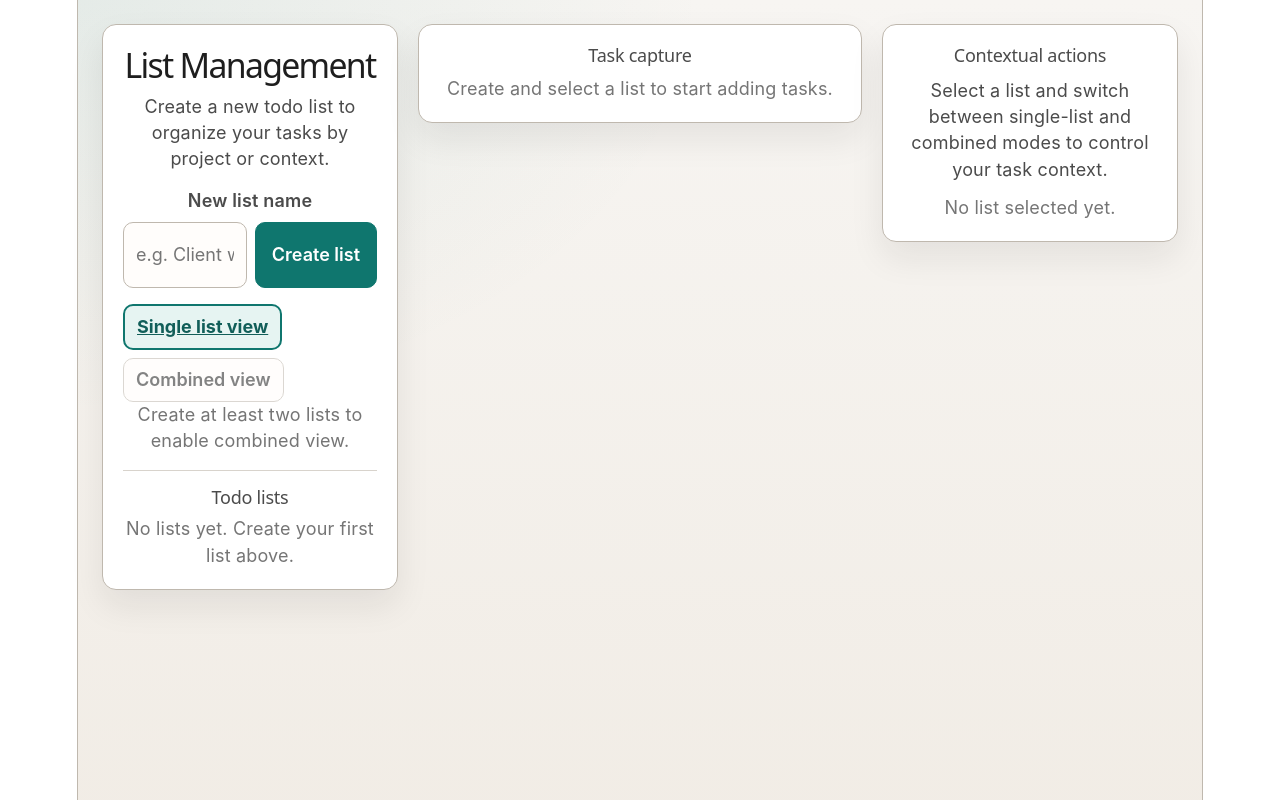
App integration baseline › prevents duplicate list names
This screenshot has width=1280, height=800.
Type "Client work" into the field labelled "New list name" at (185, 255), box [123, 222, 247, 288]
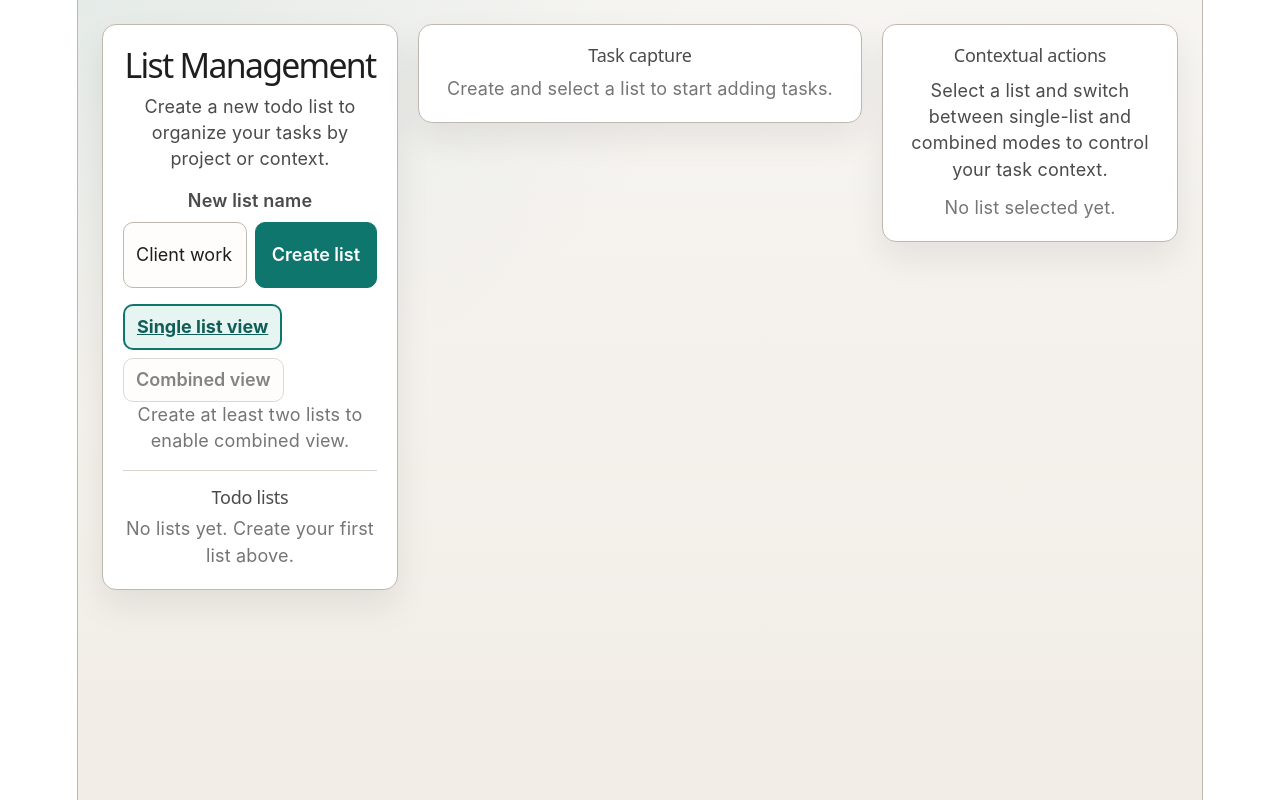
Click the button "Create list" at (316, 255), box [255, 222, 377, 288]
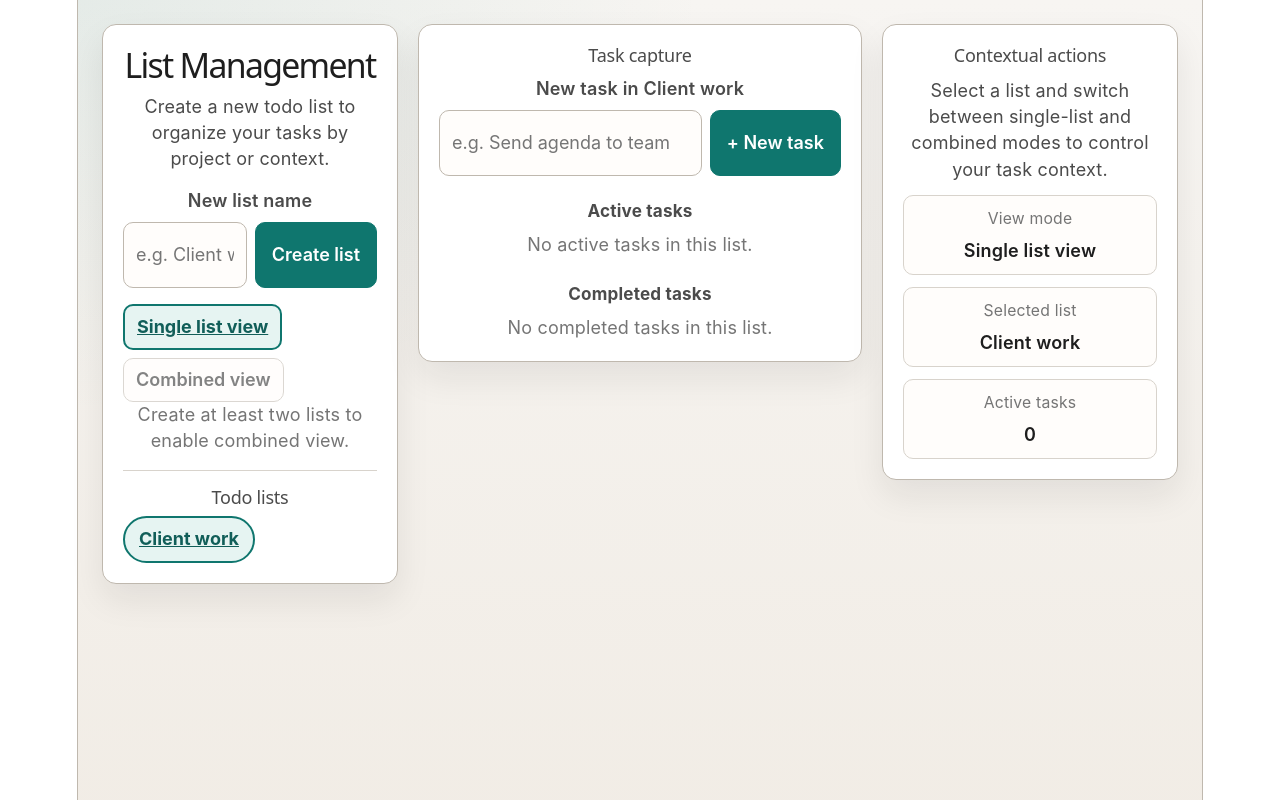
Type "  client   work " into the field labelled "New list name" at (185, 255), box [123, 222, 247, 288]
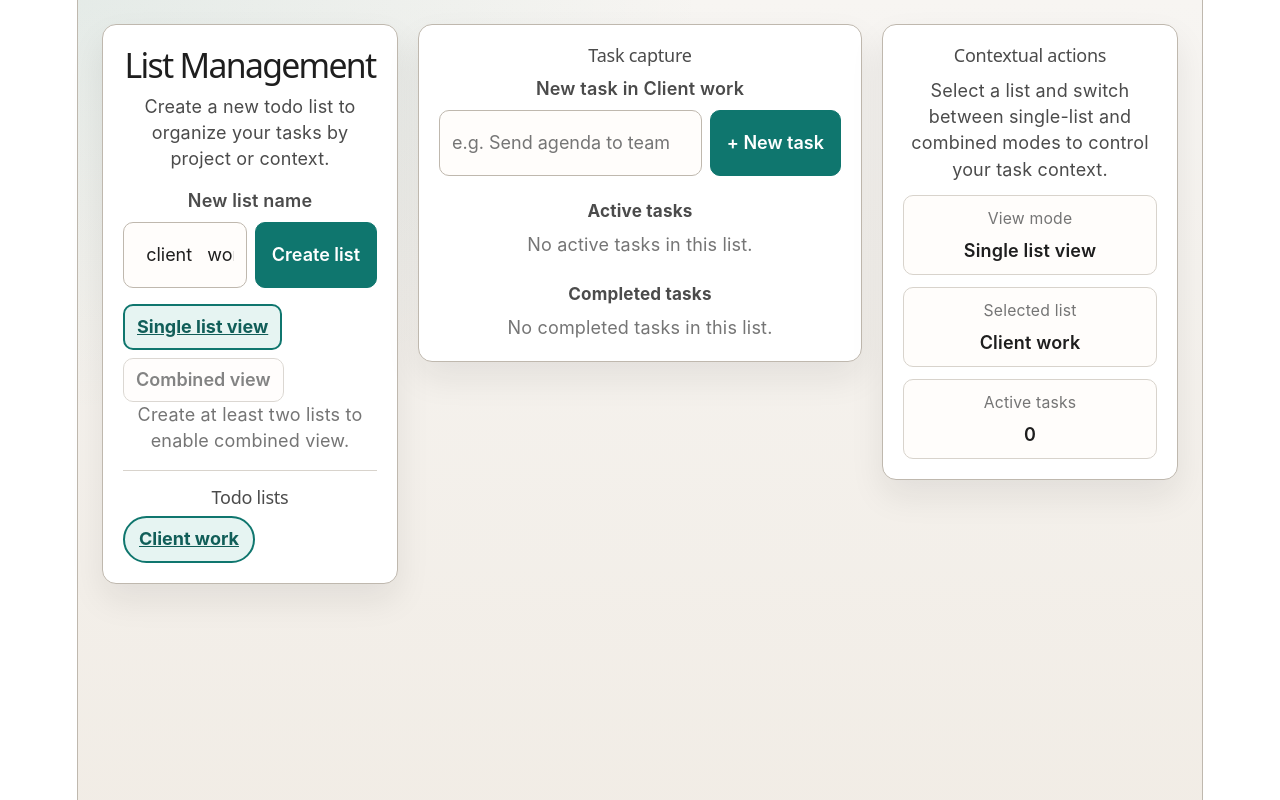
Click the button "Create list" at (316, 255), box [255, 222, 377, 288]
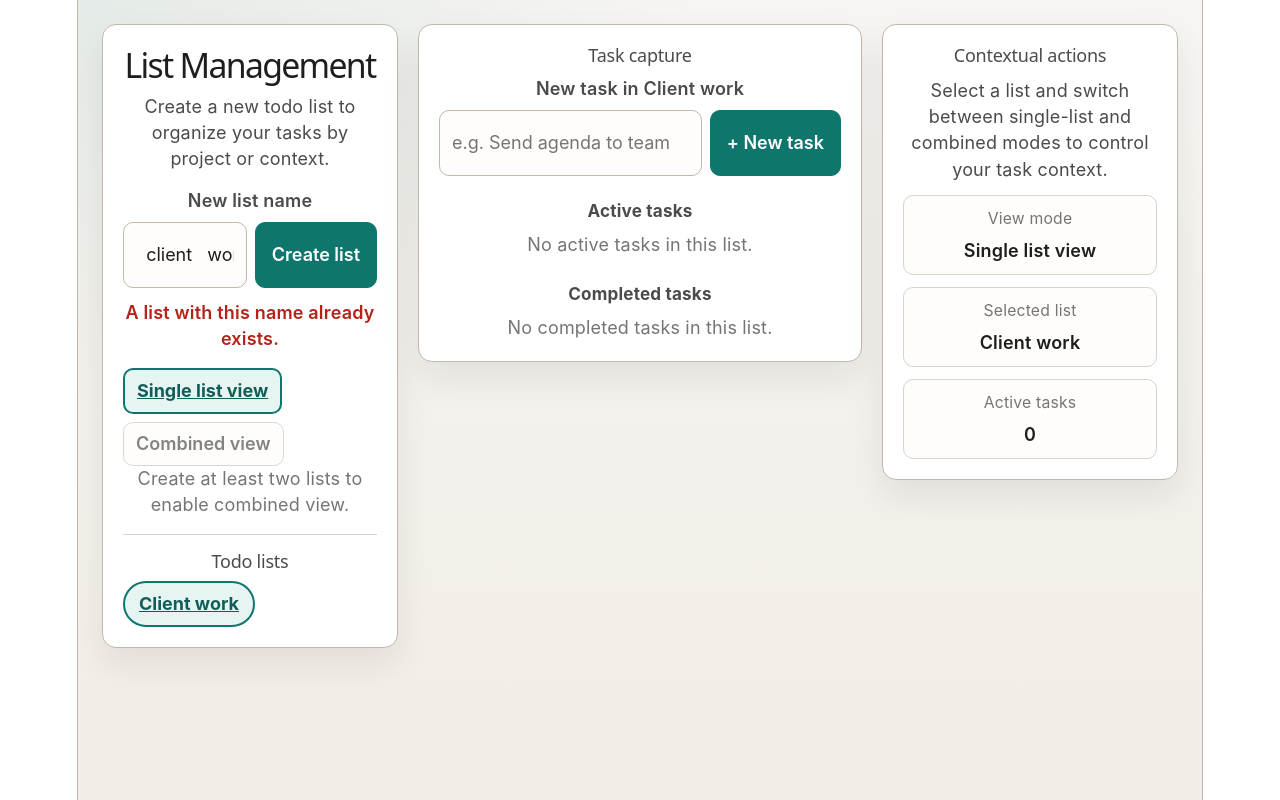
expect the message reads "A list with this name already exists.": met, box [126, 302, 374, 349]
